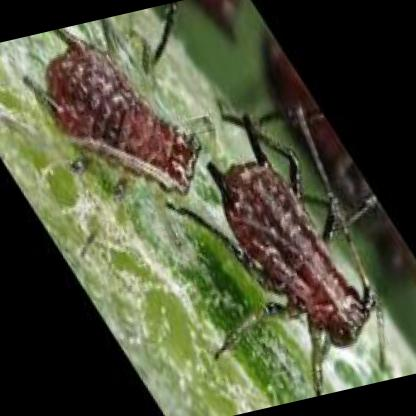uroleucon compositae: (178, 114, 378, 392), (23, 29, 200, 203)
